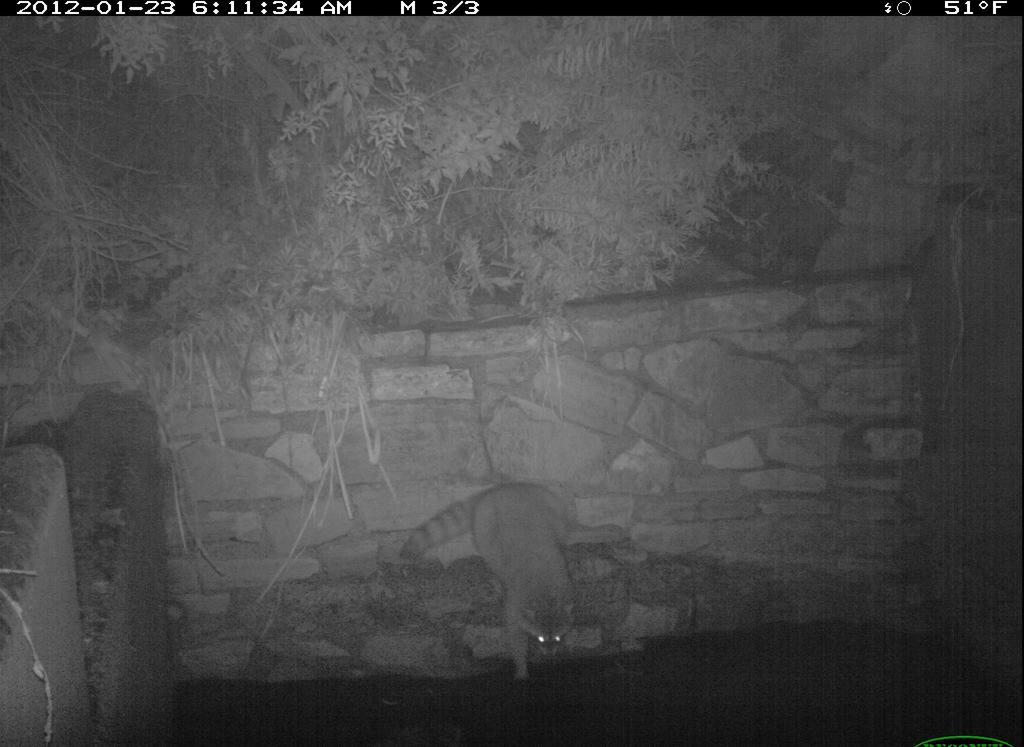raccoon: (391, 472, 602, 694)
